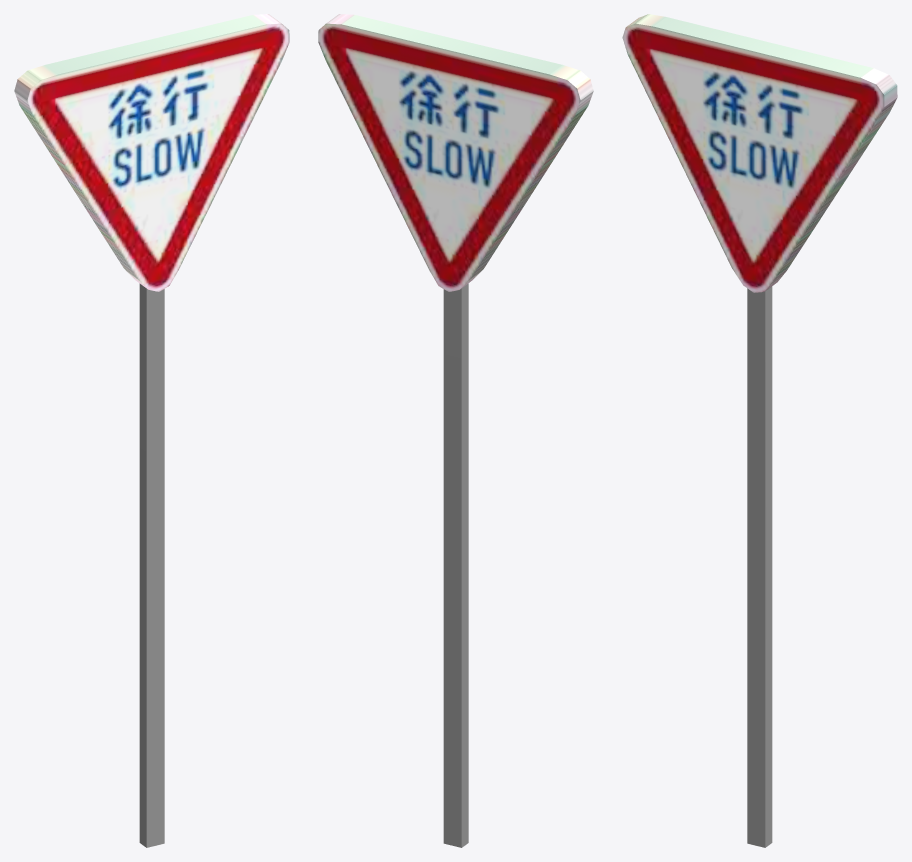
The model's file is 83ab68e1-6234-4f38-bdbd-37fb3ea25aec.glb.
3 renders of one model, left to right at view 1: azimuth 30°, elevation 25°; view 2: azimuth 150°, elevation 25°; view 3: azimuth 330°, elevation 25°, orthographic.
Parts seen in each view (by area): view 1: AsianSlowSign.001; view 2: AsianSlowSign.001; view 3: AsianSlowSign.001.
Part boxes in pixels (<box>): AsianSlowSign.001: <box>14,14,289,847</box>; AsianSlowSign.001: <box>318,14,593,847</box>; AsianSlowSign.001: <box>622,14,897,847</box>.
Size of what is drawn, in the model's own units: 0.7022 by 2.04 by 0.0608.
Materials: 2 (2 with a texture image).
